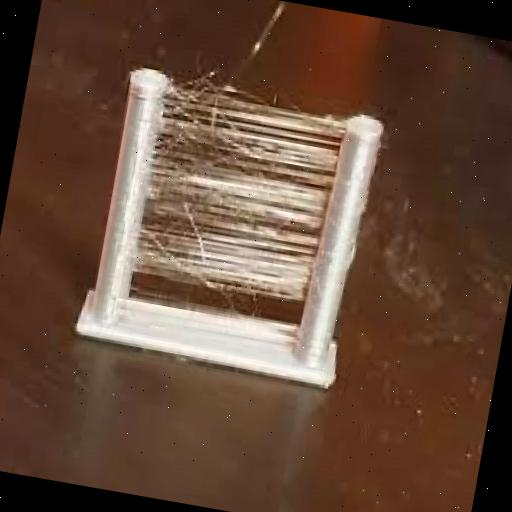stringing: (137, 85, 344, 314)
